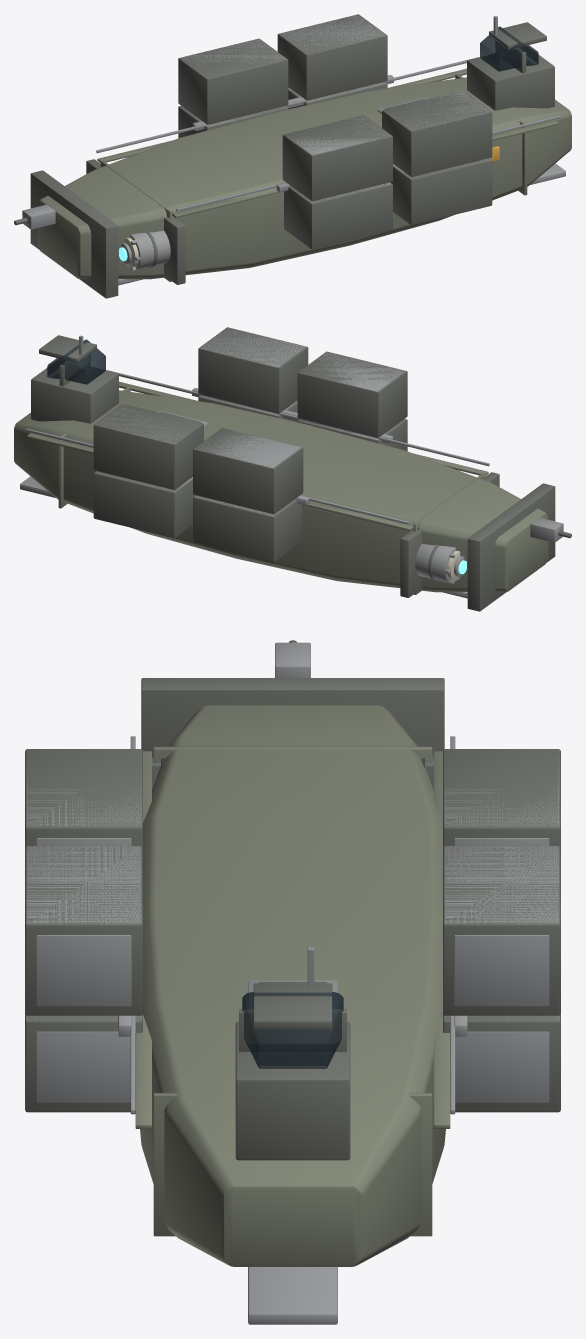
Rendered from mule_production_v1_lod1.glb.
3 views of the same model, one above another, from view 1: azimuth 30°, elevation 25°; view 2: azimuth 150°, elevation 25°; view 3: azimuth 270°, elevation 25° (orthographic). The views are drawn at different scales.
Parts seen in each view (by area): view 1: LOD1_Armor, LOD1_Hull, LOD1_Mechanical, LOD1_Canopy; view 2: LOD1_Armor, LOD1_Hull, LOD1_Mechanical, LOD1_Canopy; view 3: LOD1_Hull, LOD1_Armor, LOD1_Mechanical, LOD1_Canopy.
Boxes of the visible parts, x1,y1,x2,y2 form: LOD1_Armor: (14,14,554,298); LOD1_Hull: (37,68,571,281); LOD1_Mechanical: (22,14,565,285); LOD1_Canopy: (480,26,538,71); LOD1_Armor: (31,327,571,611); LOD1_Hull: (14,381,548,594); LOD1_Mechanical: (20,327,563,598); LOD1_Canopy: (47,339,105,384); LOD1_Hull: (135,705,450,1266); LOD1_Armor: (25,640,560,1160); LOD1_Mechanical: (27,642,558,1324); LOD1_Canopy: (242,991,343,1068).
Size of what is drawn, in the model's own units: 15.23 by 4.36 by 6.54.
